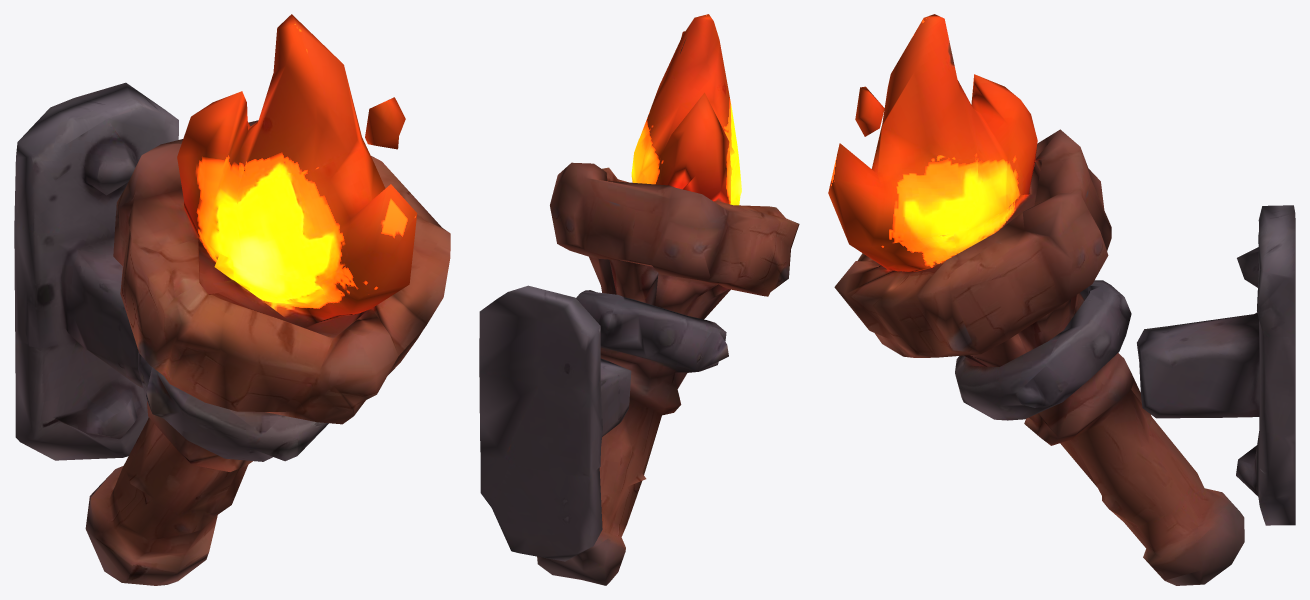
File: cr_torch-B0R2MVXf.glb
The picture shows the model from 3 angles, left to right: view 1: azimuth 30°, elevation 25°; view 2: azimuth 150°, elevation 25°; view 3: azimuth 270°, elevation 25°; orthographic projection. The views are drawn at different scales.
Visible parts, largest first — view 1: tripo_node_7c1eb637-e327-42c4-ba8c-1e90387a6442; view 2: tripo_node_7c1eb637-e327-42c4-ba8c-1e90387a6442; view 3: tripo_node_7c1eb637-e327-42c4-ba8c-1e90387a6442.
Part boxes in pixels (box(x1,y1,x2,y2)): tripo_node_7c1eb637-e327-42c4-ba8c-1e90387a6442: box(14, 14, 450, 585); tripo_node_7c1eb637-e327-42c4-ba8c-1e90387a6442: box(479, 14, 799, 585); tripo_node_7c1eb637-e327-42c4-ba8c-1e90387a6442: box(828, 14, 1295, 585).
Size of the model in its own units: 0.4772 by 1.06 by 0.8005.
Materials: 1 (1 with a texture image).
